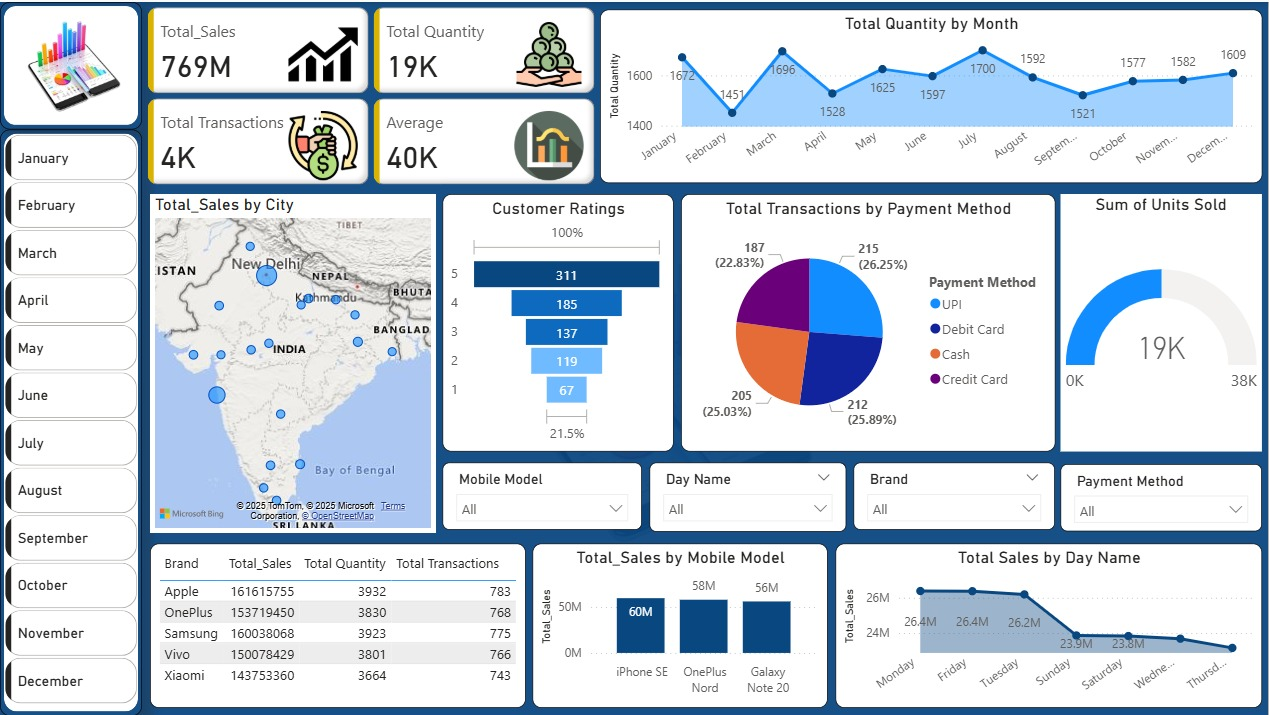

This screenshot's page, from the dashboard's own definition file:
{"tool":"powerbi","page":{"name":"Page 1","canvas":[1280,720],"ordinal":0},"visuals":[{"type":"shape","box":[0,0,143.3,128.3],"z":0},{"type":"image","box":[0,0,143.3,128.3],"z":1000},{"type":"shape","box":[0,128.3,143.3,591.7],"z":2000},{"type":"advancedSlicerVisual","fields":{"Values":["Mobile Sales Data.Date.Variation.Date Hierarchy.Month"]},"box":[0,128.3,143.3,591.7],"z":3000},{"type":"cardVisual","fields":{"Data":["Sales_Data.Total_Sales","Sales_Data.Total Quantity","Sales_Data.Total Transactions","Sales_Data.Average"]},"box":[143.6,0,461.1,189.8],"z":4000},{"type":"lineChart","fields":{"Category":["Sales_Data.Date.Variation.Date Hierarchy.Month","Sales_Data.Date.Variation.Date Hierarchy.Day"],"Y":["Sales_Data.Total Quantity"]},"box":[605.7,7.6,667.8,175.6],"z":5000},{"type":"columnChart","fields":{"Category":["Sales_Data.Mobile Model"],"Y":["Sales_Data.Total_Sales"]},"box":[538.2,546.2,297.9,165.8],"z":6000},{"type":"pieChart","fields":{"Category":["Sales_Data.Payment Method"],"Y":["Sales_Data.Total Transactions"]},"box":[687.2,193.3,377.7,259.8],"z":7000},{"type":"funnel","title":"Customer Ratings ","fields":{"Category":["Sales_Data.Customer Ratings"],"Y":["CountNonNull(Sales_Data.Customer Ratings)"]},"box":[446.9,193.3,233.2,259.8],"z":8000},{"type":"stackedAreaChart","title":"Total Sales by Day Name","fields":{"Category":["Sales_Data.Day Name"],"Y":["Sales_Data.Total_Sales"]},"box":[843.3,546.2,430.9,165.8],"z":9000},{"type":"tableEx","fields":{"Values":["Sales_Data.Brand","Sales_Data.Total_Sales","Sales_Data.Total Quantity","Sales_Data.Total Transactions"]},"box":[151.6,546.2,379.5,165.8],"z":10000},{"type":"slicer","fields":{"Values":["Sales_Data.Mobile Model"]},"box":[446.9,465.5,201.3,68.3],"z":11000},{"type":"slicer","fields":{"Values":["Sales_Data.Payment Method"]},"box":[1071.1,466.4,203.1,68.3],"z":12000},{"type":"slicer","fields":{"Values":["Sales_Data.Brand"]},"box":[861.9,465.5,203.1,68.3],"z":13000},{"type":"slicer","fields":{"Values":["Sales_Data.Day Name"]},"box":[656.2,465.5,198.6,70],"z":14000},{"type":"gauge","fields":{"Y":["Sum(Sales_Data.Units Sold)"]},"box":[1071.1,193.3,203.1,259.8],"z":15000},{"type":"map","fields":{"Category":["Sales_Data.City"],"Size":["Sales_Data.Total_Sales"]},"box":[151.4,193.8,287.7,342.2],"z":16000}]}

Visuals, with their boxes in screenshot pixels (x1, y1, x2, y2), scaled from the page's 1280x720 canvas onto the 1269x715 screenshot:
shape: region(0, 0, 142, 127)
image: region(0, 0, 142, 127)
shape: region(0, 127, 142, 714)
advancedSlicerVisual - Mobile Sales Data.Date.Variation.Date Hierarchy.Month: region(0, 127, 142, 714)
cardVisual - Sales_Data.Total_Sales x Sales_Data.Total Quantity: region(142, 0, 600, 188)
lineChart - Sales_Data.Date.Variation.Date Hierarchy.Month x Sales_Data.Date.Variation.Date Hierarchy.Day: region(600, 8, 1263, 182)
columnChart - Sales_Data.Mobile Model x Sales_Data.Total_Sales: region(534, 542, 829, 707)
pieChart - Sales_Data.Payment Method x Sales_Data.Total Transactions: region(681, 192, 1056, 450)
"Customer Ratings " funnel: region(443, 192, 674, 450)
"Total Sales by Day Name" stackedAreaChart: region(836, 542, 1263, 707)
tableEx - Sales_Data.Brand x Sales_Data.Total_Sales: region(150, 542, 527, 707)
slicer - Sales_Data.Mobile Model: region(443, 462, 643, 530)
slicer - Sales_Data.Payment Method: region(1062, 463, 1263, 531)
slicer - Sales_Data.Brand: region(854, 462, 1056, 530)
slicer - Sales_Data.Day Name: region(651, 462, 847, 532)
gauge - Sum(Sales_Data.Units Sold): region(1062, 192, 1263, 450)
map - Sales_Data.City x Sales_Data.Total_Sales: region(150, 192, 435, 532)
